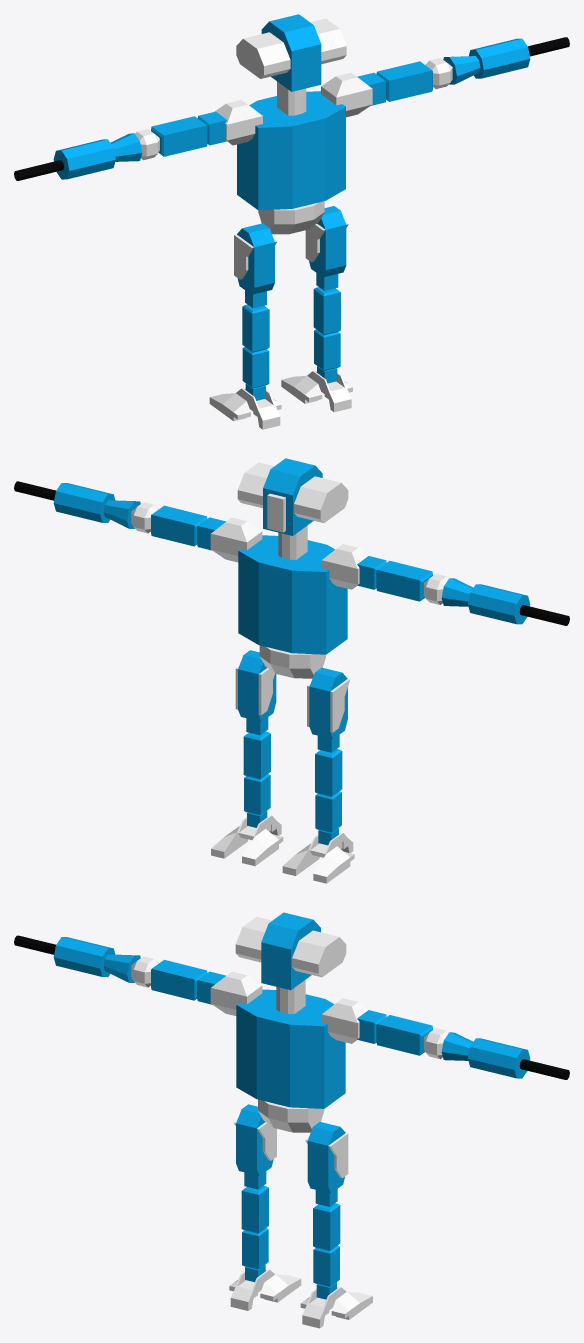
The model's file is level1robotAyrParcalar (1).fbx.
3 views of the same model, one above another, from view 1: azimuth 30°, elevation 25°; view 2: azimuth 150°, elevation 25°; view 3: azimuth 330°, elevation 25° (orthographic).
Visible parts, largest first — view 1: Body, Head, leftupLeg, rightupLeg, LeftDownArm, leftdownLeg, rightdownLeg, rightDownArm, leftuparm, rightuparm, leftfoot, rightfoot (+5 smaller); view 2: Body, Head, leftupLeg, rightupLeg, LeftDownArm, rightdownLeg, leftdownLeg, rightDownArm, leftuparm, leftfoot, rightuparm, rightfoot (+5 smaller); view 3: Body, Head, rightupLeg, leftupLeg, rightDownArm, rightdownLeg, leftdownLeg, LeftDownArm, rightuparm, leftuparm, rightfoot, leftfoot (+5 smaller).
Part boxes in pixels (x1,y1,x2,y2): Body: [237, 81, 345, 234]; Head: [236, 14, 346, 91]; leftupLeg: [234, 223, 277, 308]; rightupLeg: [305, 206, 348, 290]; LeftDownArm: [53, 133, 141, 179]; leftdownLeg: [242, 304, 269, 400]; rightdownLeg: [313, 287, 340, 383]; rightDownArm: [443, 38, 530, 84]; leftuparm: [151, 111, 227, 156]; rightuparm: [357, 61, 432, 105]; leftfoot: [209, 388, 281, 429]; rightfoot: [281, 371, 352, 412]; Body: [238, 525, 347, 678]; Head: [237, 458, 348, 535]; leftupLeg: [307, 667, 350, 752]; rightupLeg: [235, 650, 276, 735]; LeftDownArm: [441, 578, 530, 624]; rightdownLeg: [243, 731, 270, 827]; leftdownLeg: [315, 749, 342, 845]; rightDownArm: [53, 483, 140, 528]; leftuparm: [357, 556, 432, 601]; leftfoot: [282, 832, 354, 883]; rightuparm: [151, 505, 226, 550]; rightfoot: [211, 815, 283, 865]; Body: [236, 980, 345, 1132]; Head: [235, 912, 346, 990]; rightupLeg: [305, 1122, 348, 1206]; leftupLeg: [234, 1104, 276, 1189]; rightDownArm: [441, 1032, 530, 1078]; rightdownLeg: [313, 1203, 340, 1299]; leftdownLeg: [241, 1185, 268, 1282]; LeftDownArm: [53, 937, 140, 982]; rightuparm: [357, 1010, 432, 1055]; leftuparm: [151, 959, 225, 1004]; rightfoot: [300, 1287, 372, 1328]; leftfoot: [229, 1269, 301, 1310].
Size of the model in its own units: 548 by 71.79 by 366.
